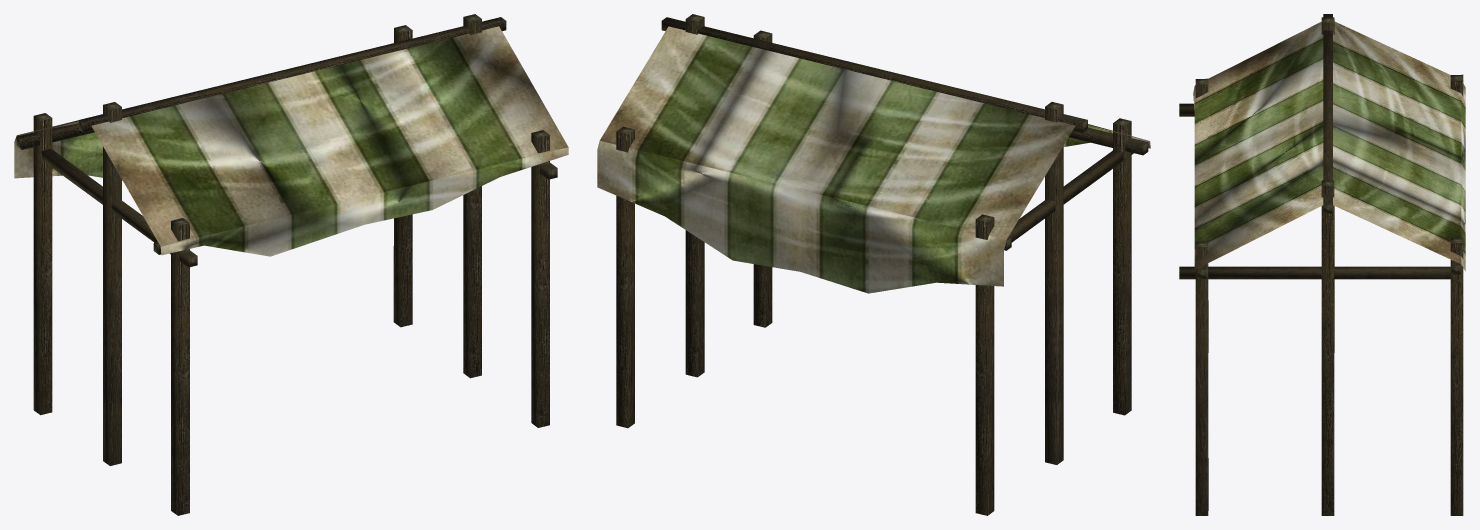
The model's file is GS_MARKET_GREEN_03.glb.
3 renders of one model, left to right at view 1: azimuth 30°, elevation 25°; view 2: azimuth 150°, elevation 25°; view 3: azimuth 270°, elevation 25°, orthographic. The views are drawn at different scales.
Visible parts, largest first — view 1: Mesh; view 2: Mesh; view 3: Mesh.
Part boxes in pixels (<box>): Mesh: <box>14,14,568,515</box>; Mesh: <box>597,14,1150,515</box>; Mesh: <box>1179,14,1465,515</box>.
Bounding box in the file's own units: 4.76 × 3.84 × 3.02.
Materials: 3 (3 with a texture image).
